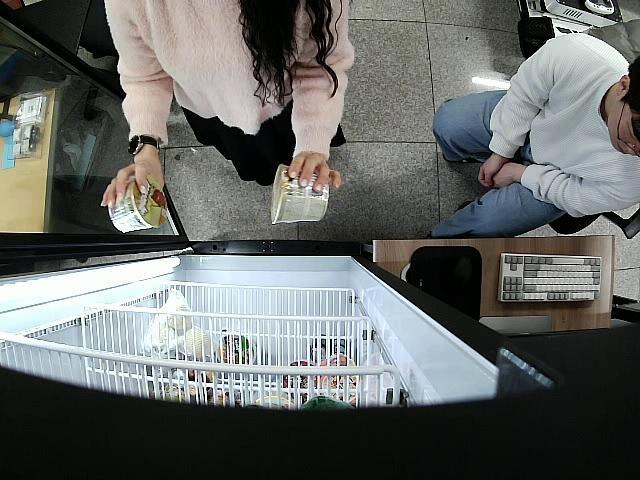04_chapagetti_S: (269, 165, 330, 224), (108, 174, 167, 232)
